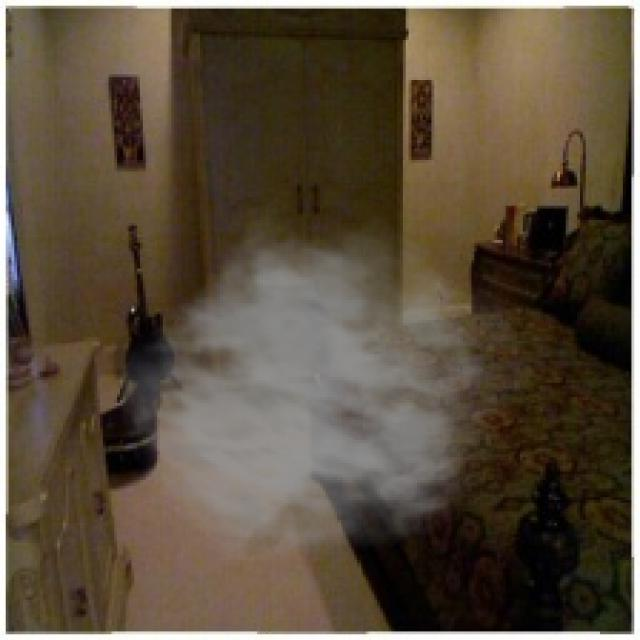smoke: (117, 208, 537, 566)
